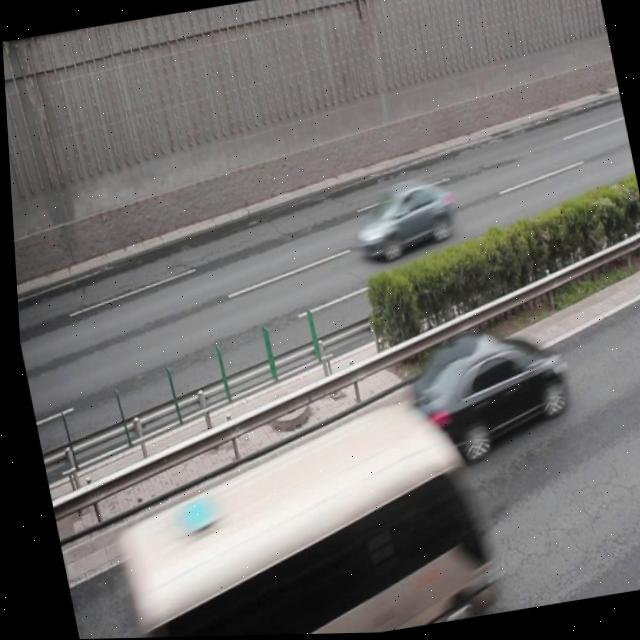car: (394, 318, 570, 464), (343, 172, 457, 264)
van: (102, 396, 490, 639)
